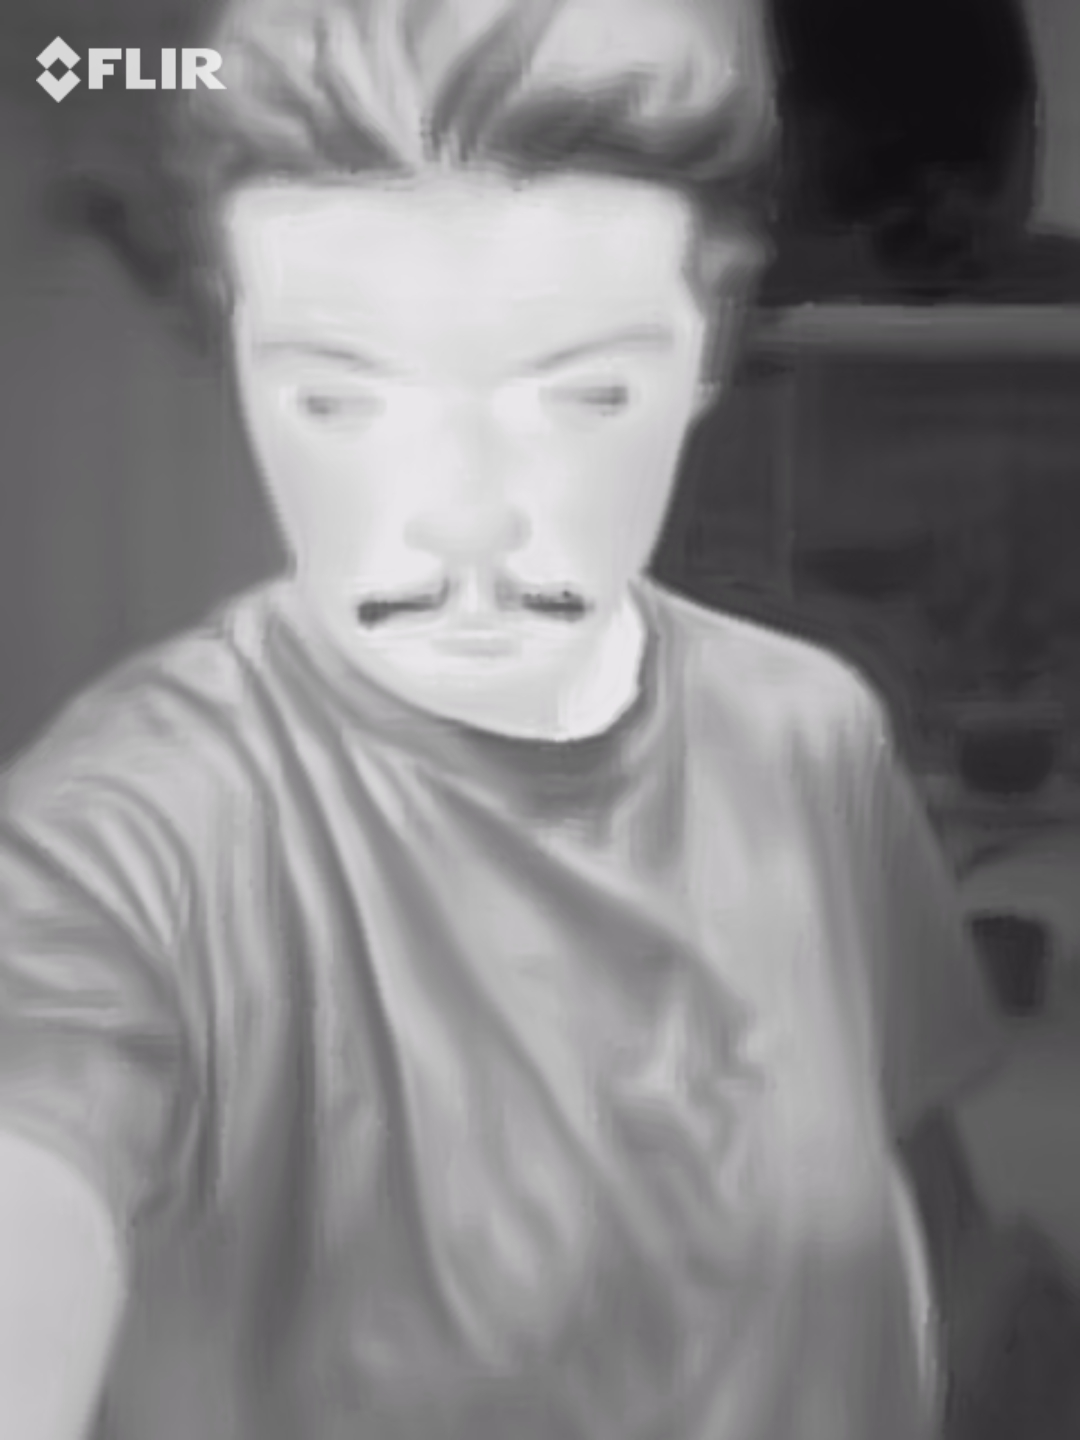head: (164, 1, 770, 704)
